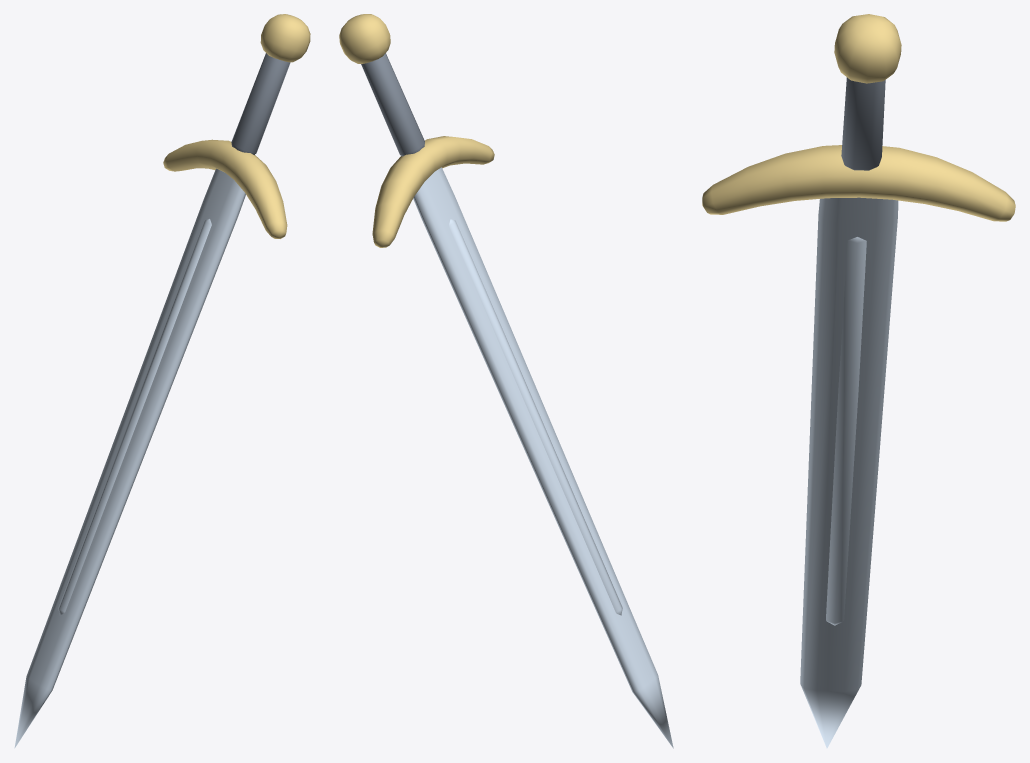
The model's file is river-steel.glb.
The picture shows the model from 3 angles, left to right: view 1: azimuth 30°, elevation 25°; view 2: azimuth 150°, elevation 25°; view 3: azimuth 270°, elevation 25°; orthographic projection. The views are drawn at different scales.
Visible parts, largest first — view 1: river_steel; view 2: river_steel; view 3: river_steel.
Part boxes in pixels (x1,y1,x2,y2): river_steel: [14, 14, 310, 748]; river_steel: [339, 14, 673, 748]; river_steel: [702, 14, 1015, 748].
Size of the model in its own units: 0.4483 by 0.9111 by 0.2784.
